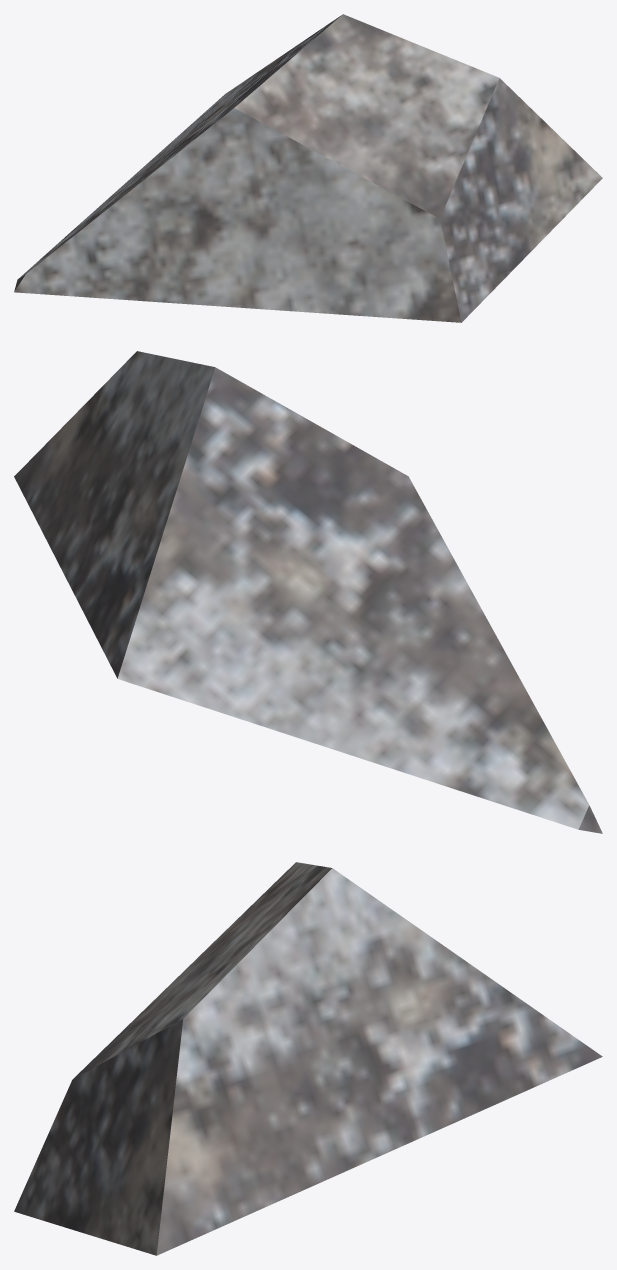
File: Asteroid_Large_001_02_009_03_042.fbx
3 views of the same model, one above another, from view 1: azimuth 30°, elevation 25°; view 2: azimuth 150°, elevation 25°; view 3: azimuth 270°, elevation 25° (orthographic). The views are drawn at different scales.
Visible parts, largest first — view 1: Asteroid_Large_001_02_009_03_042; view 2: Asteroid_Large_001_02_009_03_042; view 3: Asteroid_Large_001_02_009_03_042.
Boxes of the visible parts, left/top/right/bottom form: Asteroid_Large_001_02_009_03_042: left=14, top=14, right=602, bottom=322; Asteroid_Large_001_02_009_03_042: left=14, top=351, right=602, bottom=833; Asteroid_Large_001_02_009_03_042: left=14, top=862, right=602, bottom=1255.
Bounding box in the file's own units: 5.44 × 2.41 × 3.82.
